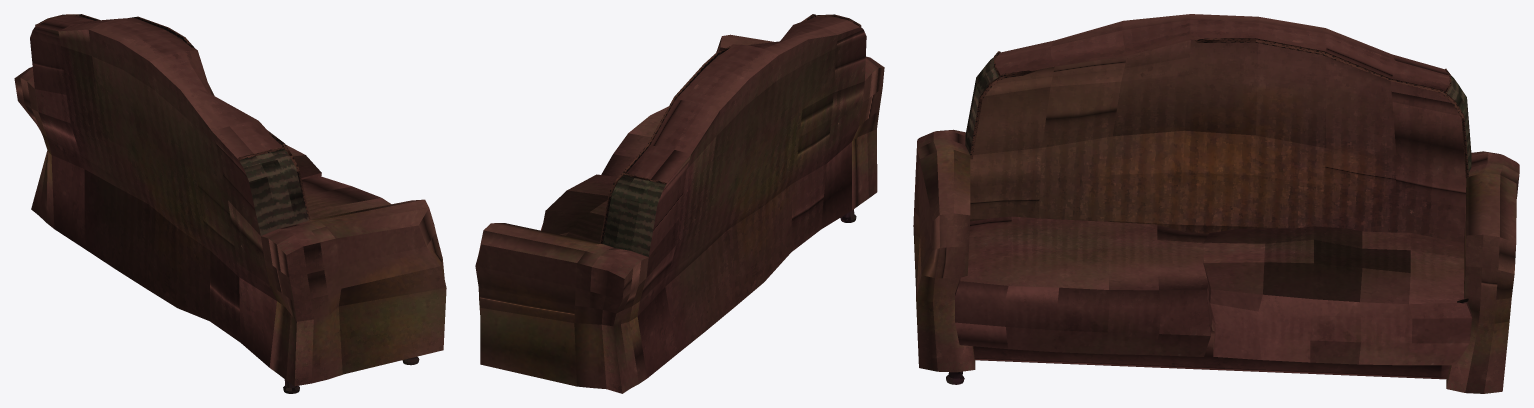
The model's file is FPH_Couch.fbx.
The picture shows the model from 3 angles, left to right: view 1: azimuth 30°, elevation 25°; view 2: azimuth 150°, elevation 25°; view 3: azimuth 270°, elevation 25°; orthographic projection. The views are drawn at different scales.
Visible parts, largest first — view 1: FPH_Couch_Diffuse; view 2: FPH_Couch_Diffuse; view 3: FPH_Couch_Diffuse.
Boxes of the visible parts, x1,y1,x2,y2 form: FPH_Couch_Diffuse: (14,14,446,393); FPH_Couch_Diffuse: (475,14,884,393); FPH_Couch_Diffuse: (913,14,1519,393).
Bounding box in the file's own units: 4.88 × 6.27 × 11.9.
Materials: 1 (1 with a texture image).
